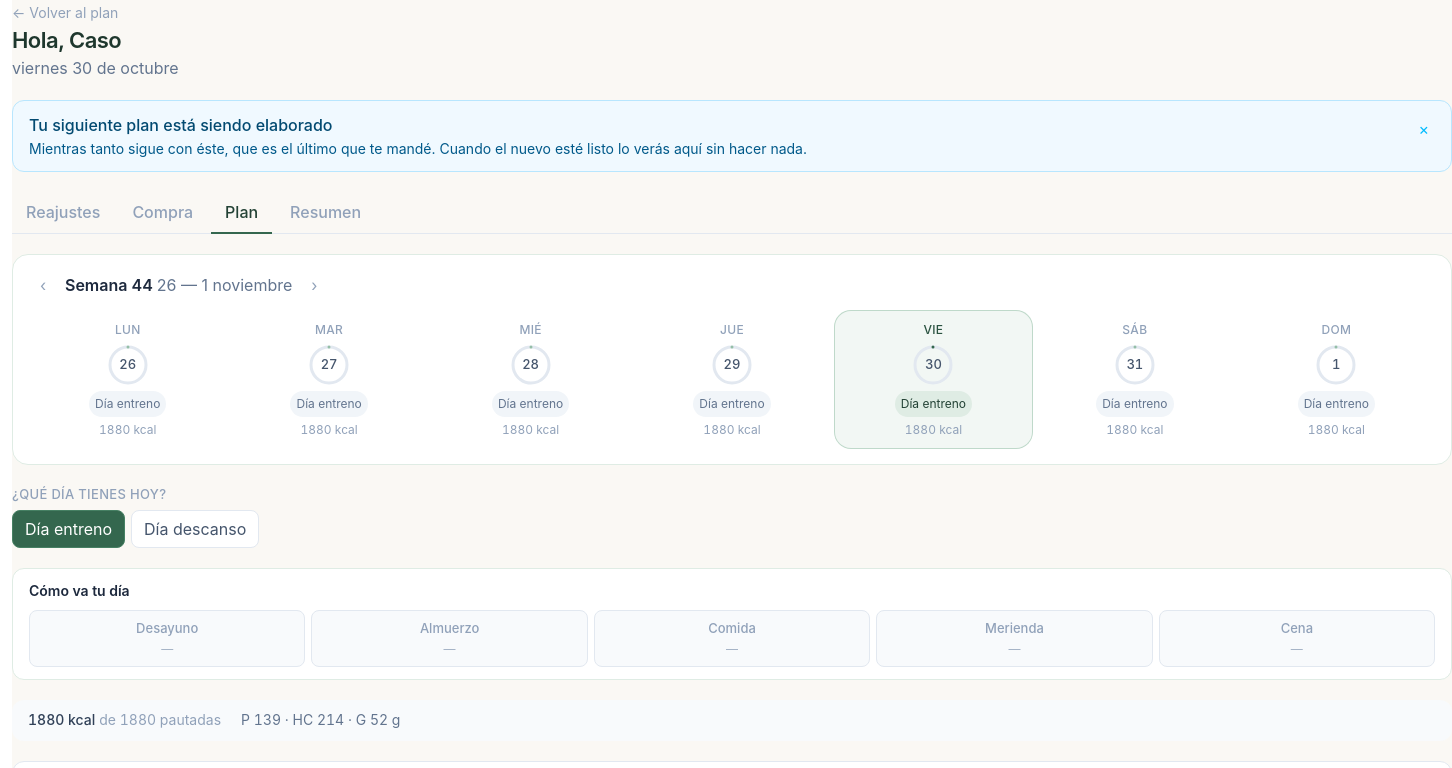
Test case: Mientras le montan el siguiente › se puede quitar, y el plan se queda
The width and height of the screenshot is (1452, 768).
Click the button named "Cerrar el aviso": (1424, 129) [1412,113,1435,145]
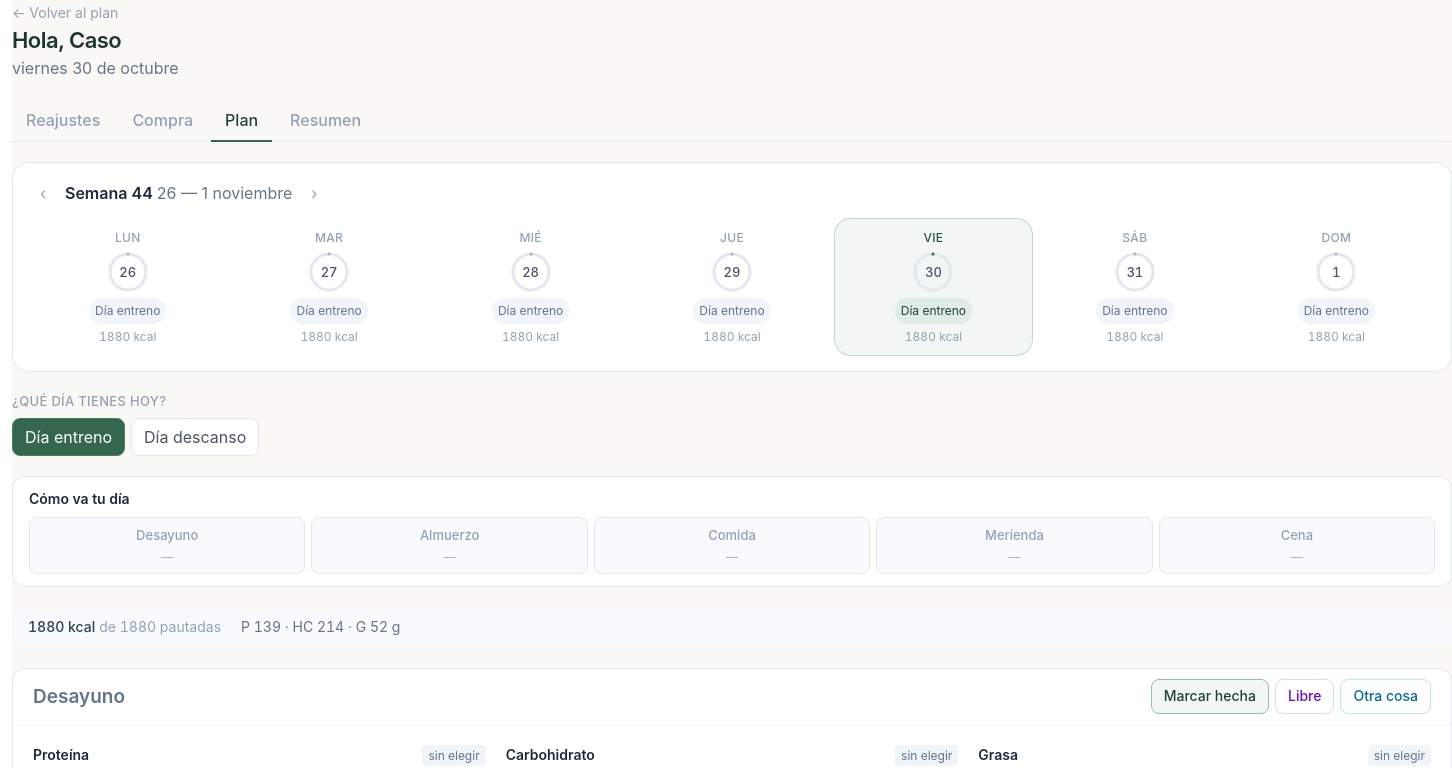
Expected: the heading "Hola, Caso" is shown, [12,27,121,53]
Now the text "Tu siguiente plan está siendo elaborado" is gone
